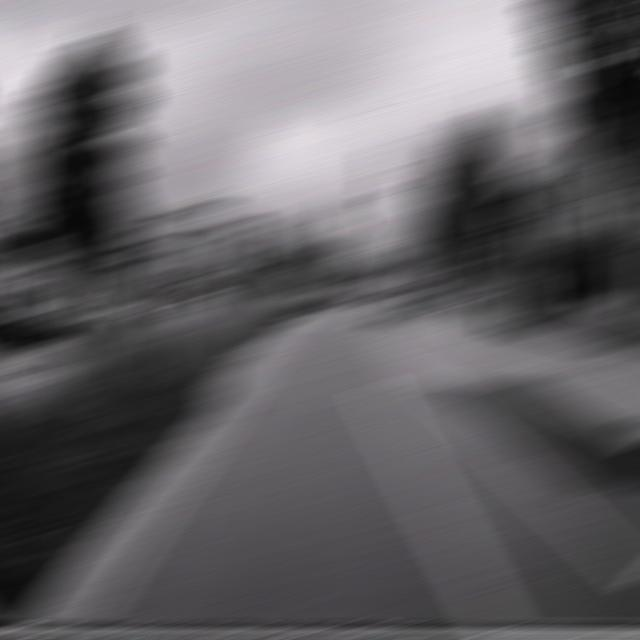pedestrianCrossing: (383, 242, 417, 263)
